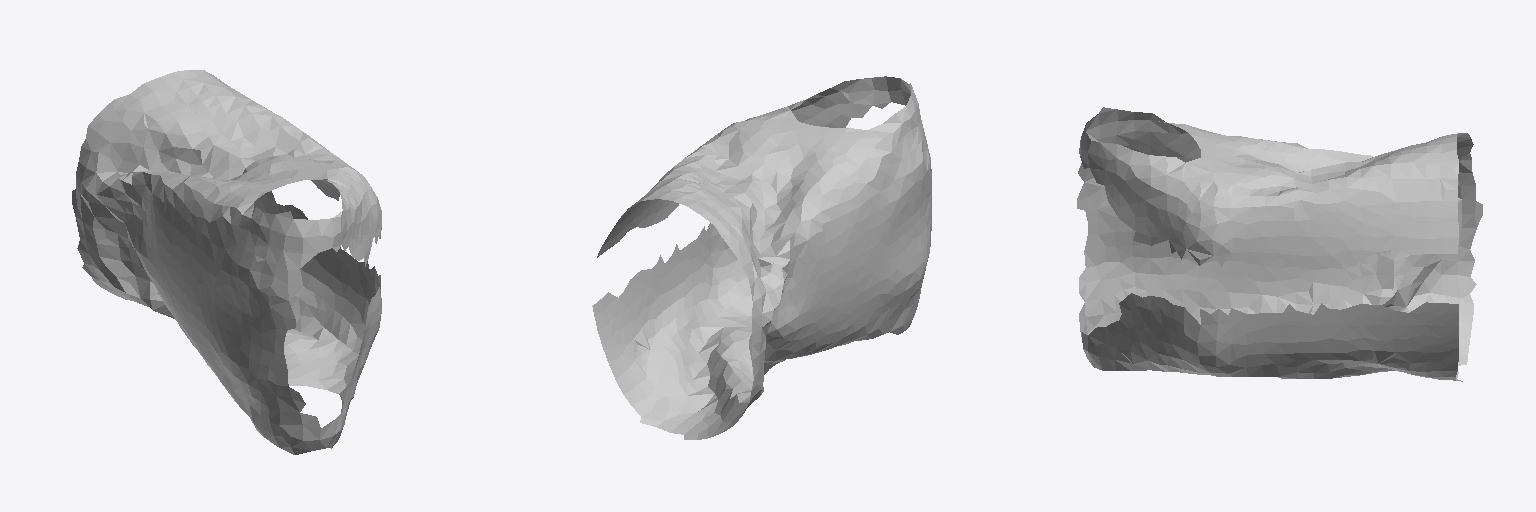
The model's file is cardigan_sparse.obj.
3 views of the same model, side by side, from view 1: azimuth 30°, elevation 25°; view 2: azimuth 150°, elevation 25°; view 3: azimuth 270°, elevation 25° (orthographic).
Bounding box in the file's own units: 0.1813 × 0.2401 × 0.3604.